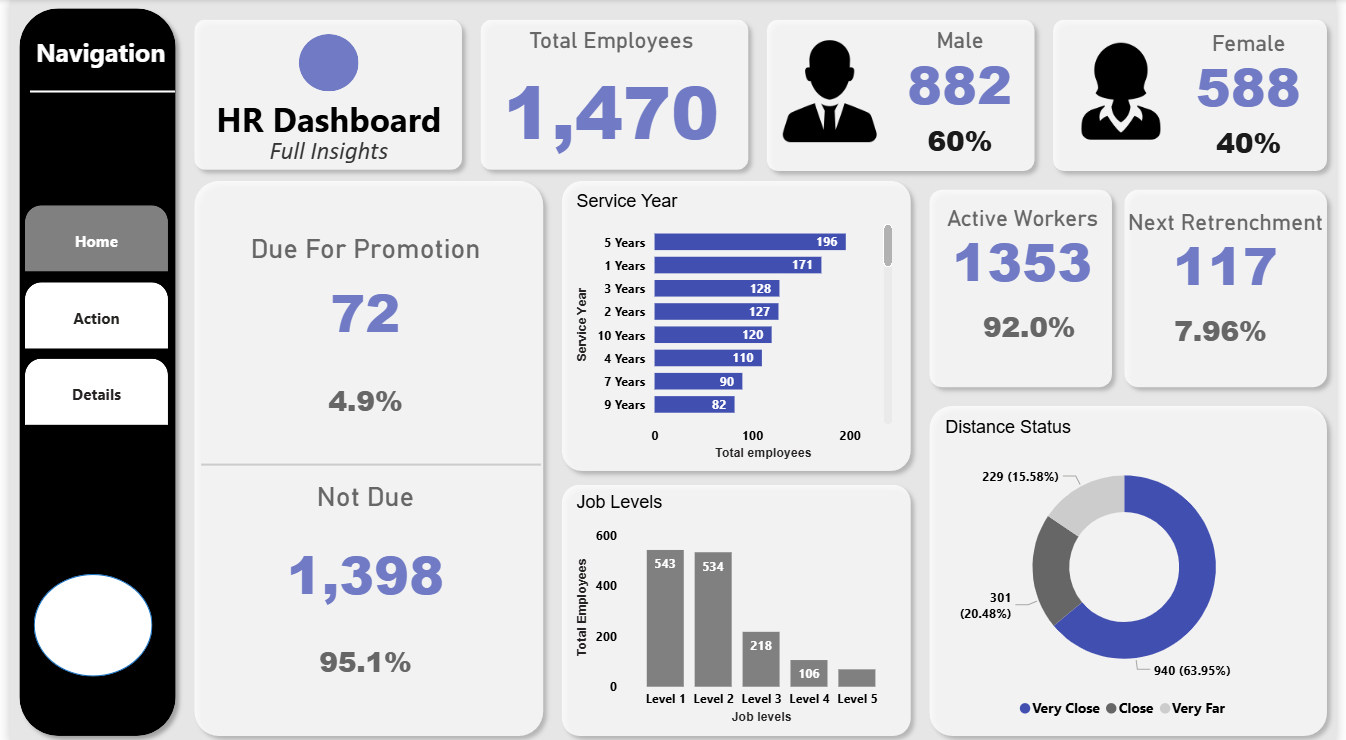

What the dashboard file says about the page in this screenshot:
{"tool":"powerbi","page":{"name":"Home","canvas":[1280,720],"ordinal":0},"visuals":[{"type":"shape","box":[0,0,168.9,720.2],"z":0},{"type":"shape","box":[168.9,10.9,276.3,162.9],"z":1000},{"type":"shape","box":[445.2,10.9,276.3,162.9],"z":2000},{"type":"shape","box":[721.5,10.9,276.3,164.1],"z":3000},{"type":"shape","box":[997.7,10.9,282.3,164.1],"z":4000},{"type":"shape","box":[168.9,166.5,354.7,553.8],"z":5000},{"type":"shape","box":[523.6,166.5,354.7,298],"z":6000},{"type":"shape","box":[523.6,459.7,354.7,260.6],"z":7000},{"type":"shape","box":[878.3,174.9,194.2,208.7],"z":8000},{"type":"shape","box":[1066.5,174.9,213.5,208.7],"z":9000},{"type":"shape","box":[878.3,383.6,401.7,336.6],"z":10000},{"type":"textbox","box":[184.6,89.3,246.1,74.8],"z":11000},{"type":"textbox","box":[184.6,126.7,246.1,47.1],"z":12000},{"type":"shape","box":[278.7,33.8,57.9,55.5],"z":13000},{"type":"card","title":"Total Employees","fields":{"Values":["All Measures.Total Emp"]},"box":[459.7,27.7,241.3,130.3],"z":14000},{"type":"card","title":"Male","fields":{"Values":["All Measures.Male"]},"box":[856.4,27.7,120.6,80.8],"z":15000},{"type":"card","title":"Male","fields":{"Values":["All Measures.% Male"]},"box":[878.3,108.6,77.2,57.9],"z":16000},{"type":"card","title":"Female","fields":{"Values":["All Measures.Female"]},"box":[1135.6,30,120.6,80.8],"z":17000},{"type":"card","title":"Male","fields":{"Values":["All Measures.% Female"]},"box":[1157.6,110.9,77.2,57.9],"z":18000},{"type":"image","box":[1020.6,35,103.8,108.6],"z":19000},{"type":"image","box":[737.1,35,108.6,108.6],"z":20000},{"type":"card","title":"Due For Promotion","fields":{"Values":["All Measures.Due For Promotion"]},"box":[184.6,225.6,317.3,119.4],"z":21000},{"type":"card","title":"Male","fields":{"Values":["All Measures.% Due For Promotion"]},"box":[184.6,359.5,317.3,57.9],"z":22000},{"type":"card","title":"Not Due","fields":{"Values":["All Measures.Not Due"]},"box":[184.6,464.7,317.3,147.2],"z":23000},{"type":"card","title":"Male","fields":{"Values":["All Measures.% Not Due"]},"box":[184.6,611.9,317.3,57.9],"z":24000},{"type":"shape","box":[184.6,439.1,328.2,20.5],"z":25000},{"type":"barChart","title":"Service Year","fields":{"Category":["HR Analytics Data.Service Year"],"Y":["All Measures.Total Emp"]},"box":[541.7,184.6,314.9,265.4],"z":26000},{"type":"columnChart","title":"Job Levels","fields":{"Category":["HR Analytics Data.Job levels"],"Y":["All Measures.Total Emp"]},"box":[541.7,475.3,318.5,229.2],"z":27000},{"type":"card","title":"Active Workers","fields":{"Values":["All Measures.On Service"]},"box":[887.9,199.1,178.6,80.8],"z":28000},{"type":"card","title":"Male","fields":{"Values":["All Measures.% On Services"]},"box":[916.9,288.3,133.9,57.9],"z":29000},{"type":"card","title":"Next Retrenchment","fields":{"Values":["All Measures.Will Be Retreanched"]},"box":[1071.3,202.7,203.9,80.8],"z":30000},{"type":"card","title":"Male","fields":{"Values":["All Measures.% Will Be Retreanched"]},"box":[1116.5,291.6,105,57.9],"z":31000},{"type":"donutChart","title":"Distance Status","fields":{"Category":["HR Analytics Data.Distance Status"],"Y":["All Measures.Total Emp"]},"box":[897.6,403,355.9,300.4],"z":32000},{"type":"shape","box":[19.3,80.8,139.9,16.9],"z":33000},{"type":"textbox","box":[12.1,30.2,150.8,43.4],"z":34000},{"type":"pageNavigator","box":[14.5,199.1,138.7,213.5],"z":35000},{"type":"shape","box":[19.3,225.6,25.3,18.1],"z":36000},{"type":"shape","box":[22.9,555,114.6,98.9],"z":37000}]}

Visuals, with their boxes in screenshot pixels (x1, y1, x2, y2), scaled from the page's 1280x720 canvas onto the 1346x740 screenshot:
shape: x1=0 y1=0 x2=178 y2=739
shape: x1=178 y1=11 x2=468 y2=179
shape: x1=468 y1=11 x2=759 y2=179
shape: x1=759 y1=11 x2=1049 y2=180
shape: x1=1049 y1=11 x2=1345 y2=180
shape: x1=178 y1=171 x2=551 y2=739
shape: x1=551 y1=171 x2=924 y2=477
shape: x1=551 y1=472 x2=924 y2=739
shape: x1=924 y1=180 x2=1128 y2=394
shape: x1=1121 y1=180 x2=1345 y2=394
shape: x1=924 y1=394 x2=1345 y2=739
textbox: x1=194 y1=92 x2=453 y2=169
textbox: x1=194 y1=130 x2=453 y2=179
shape: x1=293 y1=35 x2=354 y2=92
"Total Employees" card: x1=483 y1=28 x2=737 y2=162
"Male" card: x1=901 y1=28 x2=1027 y2=112
"Male" card: x1=924 y1=112 x2=1005 y2=171
"Female" card: x1=1194 y1=31 x2=1321 y2=114
"Male" card: x1=1217 y1=114 x2=1298 y2=173
image: x1=1073 y1=36 x2=1182 y2=148
image: x1=775 y1=36 x2=889 y2=148
"Due For Promotion" card: x1=194 y1=232 x2=528 y2=355
"Male" card: x1=194 y1=369 x2=528 y2=429
"Not Due" card: x1=194 y1=478 x2=528 y2=629
"Male" card: x1=194 y1=629 x2=528 y2=688
shape: x1=194 y1=451 x2=539 y2=472
"Service Year" barChart: x1=570 y1=190 x2=901 y2=462
"Job Levels" columnChart: x1=570 y1=489 x2=905 y2=724
"Active Workers" card: x1=934 y1=205 x2=1121 y2=288
"Male" card: x1=964 y1=296 x2=1105 y2=356
"Next Retrenchment" card: x1=1127 y1=208 x2=1341 y2=291
"Male" card: x1=1174 y1=300 x2=1284 y2=359
"Distance Status" donutChart: x1=944 y1=414 x2=1318 y2=723
shape: x1=20 y1=83 x2=167 y2=100
textbox: x1=13 y1=31 x2=171 y2=76
pageNavigator: x1=15 y1=205 x2=161 y2=424
shape: x1=20 y1=232 x2=47 y2=250
shape: x1=24 y1=570 x2=145 y2=672
